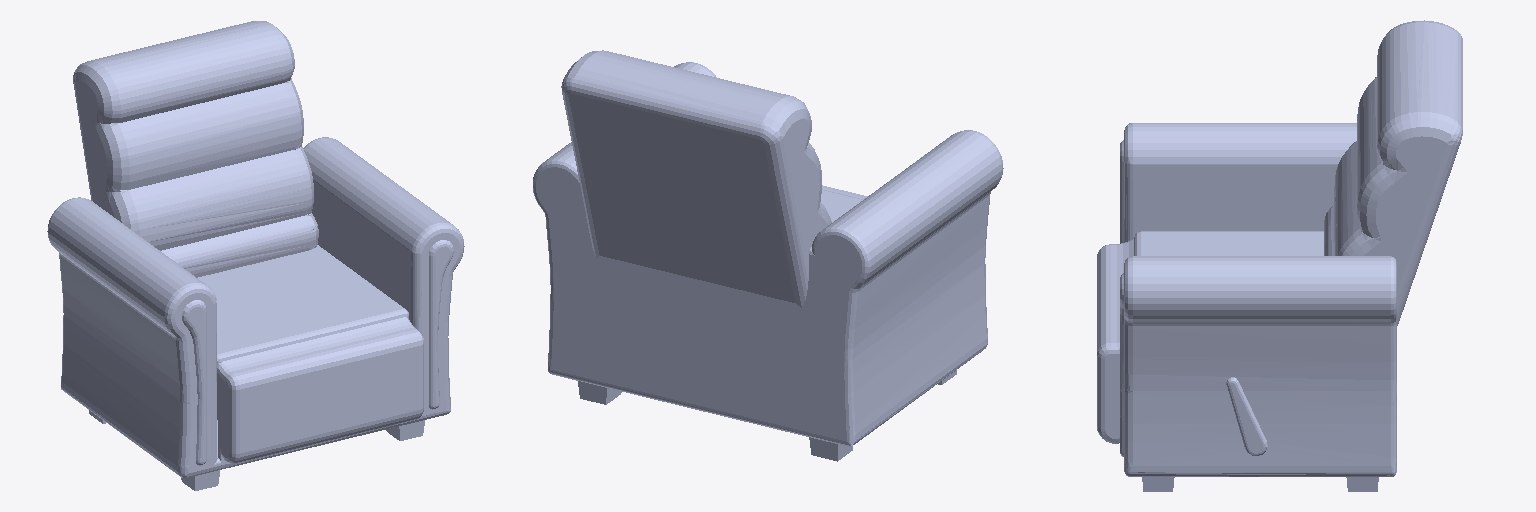
URDF robot description (Lazy-boy recliner):
<robot
  name="Lazy-boy recliner">
  <link
    name="lazy_boy_recliner">
    <inertial>
      <origin
        xyz="0.48331 0.47807 0.40345"
        rpy="0 0 0" />
      <mass
        value="482.89" />
      <inertia
        ixx="74.606204736716"
        ixy="-0.0244532945799859"
        ixz="-0.0391715052439546"
        iyy="84.291052412574"
        iyz="-18.7204405013971"
        izz="88.7409431145285" />
    </inertial>
    <visual>
      <origin
        xyz="0 0 0"
        rpy="1.5707963267949 0 0" />
      <geometry>
        <mesh
          filename="package://lazy_boy_recliner/meshes/lazy_boy_recliner.STL" />
      </geometry>
      <material
        name="">
        <color
          rgba="0.79216 0.81961 0.93333 1" />
      </material>
    </visual>
    <collision>
      <origin
        xyz="0 0 0"
        rpy="1.5707963267949 0 0" />
      <geometry>
        <mesh
          filename="package://lazy_boy_recliner/meshes/lazy_boy_recliner.STL" />
      </geometry>
    </collision>
  </link>
</robot>

--- What the picture shows (computed from the rendered views, not written in the file) ---
The picture shows the robot from 3 angles, left to right: view 1: azimuth 30°, elevation 25°; view 2: azimuth 150°, elevation 25°; view 3: azimuth 270°, elevation 25°; orthographic projection.
Robot: Lazy-boy recliner — 1 links, 0 joints (none); root link lazy_boy_recliner; default pose: all joints at 0.
Links seen in each view (by area): view 1: lazy_boy_recliner; view 2: lazy_boy_recliner; view 3: lazy_boy_recliner.
Boxes of the visible links, <box> form: lazy_boy_recliner: <box>47,21,464,490</box>; lazy_boy_recliner: <box>533,50,1003,461</box>; lazy_boy_recliner: <box>1097,20,1462,491</box>.
Bounding box of the posed robot: 1.14 × 1.09 × 1.19 m (x, y, z).
1 mesh visuals loaded from 1 distinct referenced files (1 binary STL).
